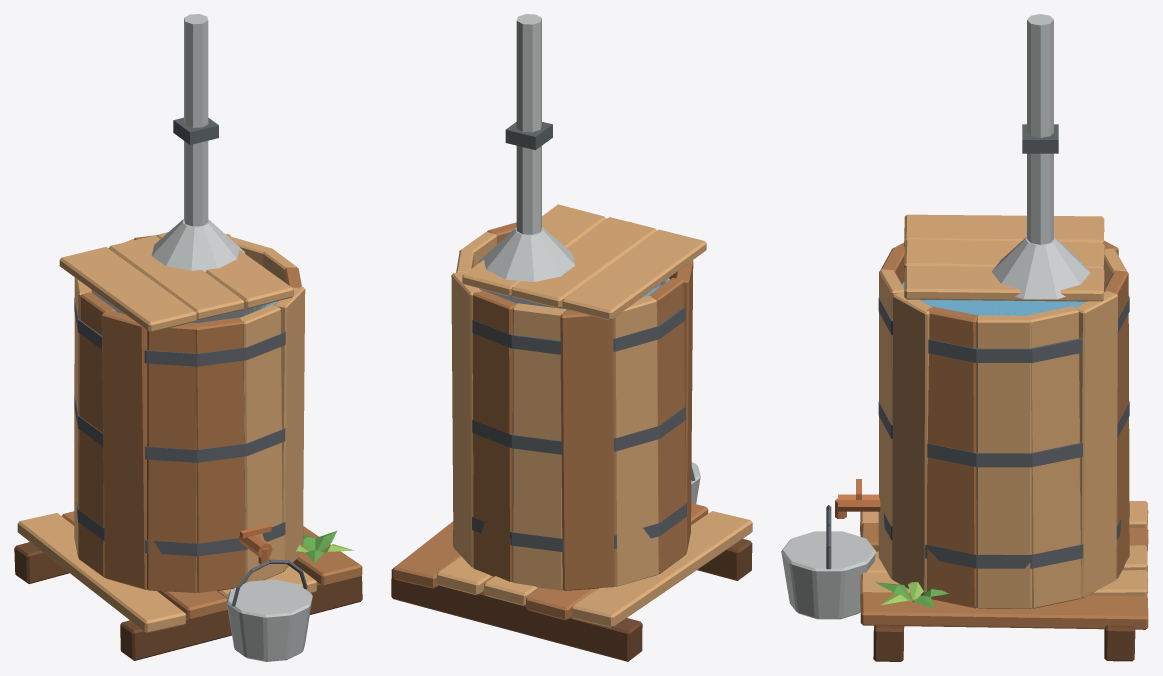
Rendered from rain_barrel.glb.
The picture shows the model from 3 angles, left to right: view 1: azimuth 30°, elevation 25°; view 2: azimuth 150°, elevation 25°; view 3: azimuth 270°, elevation 25°; orthographic projection. The views are drawn at different scales.
Parts seen in each view (by area): view 1: Rain Barrel; view 2: Rain Barrel; view 3: Rain Barrel.
Part boxes in pixels (x1,y1,x2,y2): Rain Barrel: [14, 14, 362, 661]; Rain Barrel: [391, 14, 752, 661]; Rain Barrel: [781, 14, 1148, 661].
Size of the model in its own units: 0.9598 by 2.19 by 1.21.
1 material, 1 textured.
